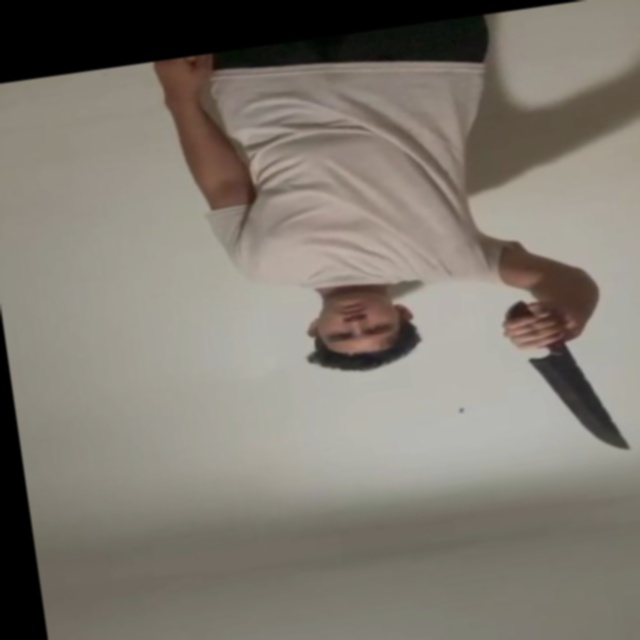Sharp-Object: (526, 346, 635, 464)
